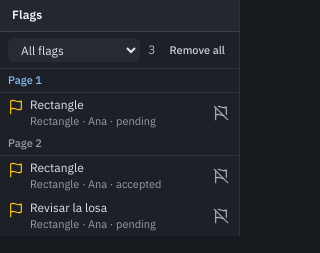
Flags: panel, comandos y bandera sobre la hoja (ADR-0117) › un clic lleva a la página de la marca y la selecciona; el filtro deja solo la página actual
Click the button "Revisar la losa Rectangle · Ana · pending" at (106, 216), box [8,200,205,232]
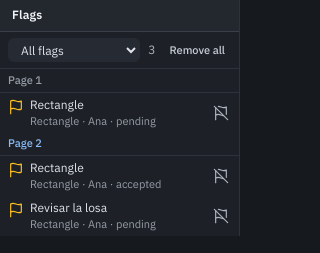
Select "This page" in the dropdown with test id "flags-scope" at (74, 50), box [8,38,140,62]
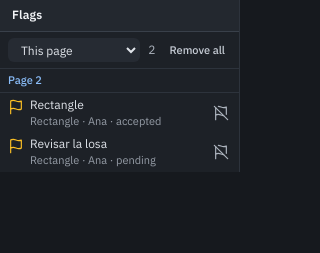
Expected: the text with test id "flags-count" reads "2", [148,42,156,57]
Expected: the list item with test id "flag-row-a" is gone
